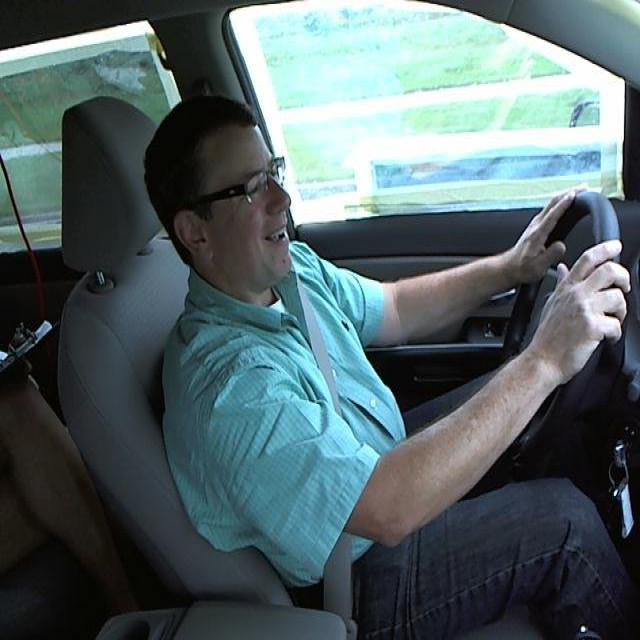seatbelt: (288, 298, 382, 622)
